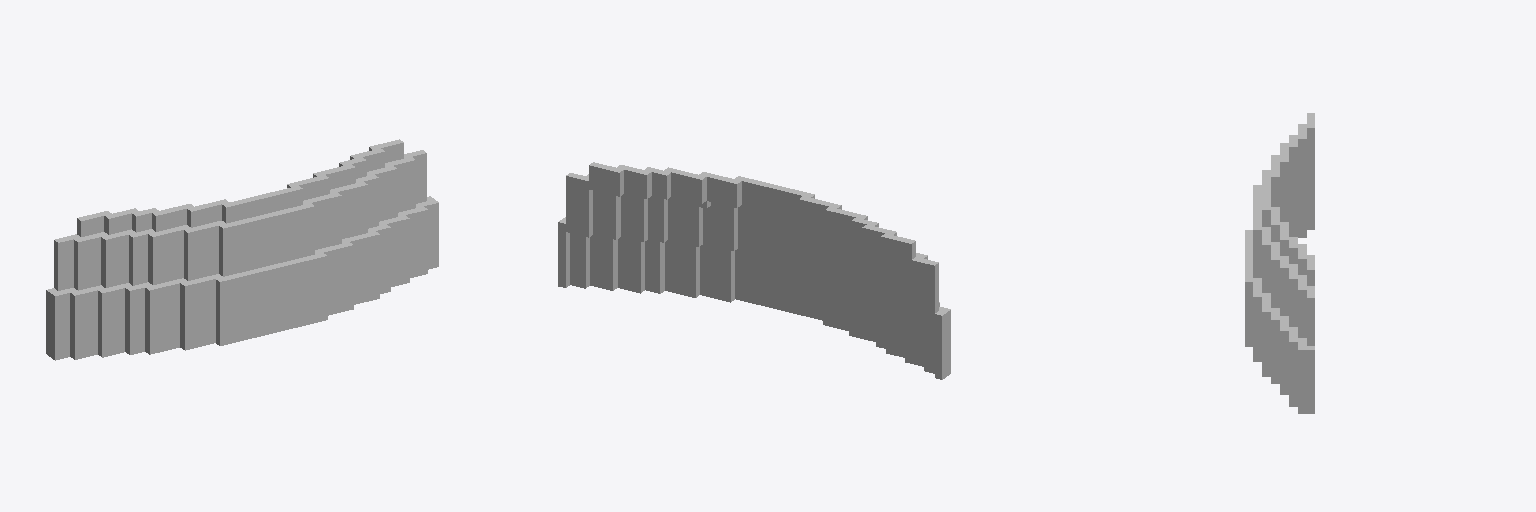
The model's file is ggj_wave.obj.
3 renders of one model, left to right at view 1: azimuth 30°, elevation 25°; view 2: azimuth 150°, elevation 25°; view 3: azimuth 270°, elevation 25°, orthographic.
Size of the model in its own units: 50 by 16 by 8.